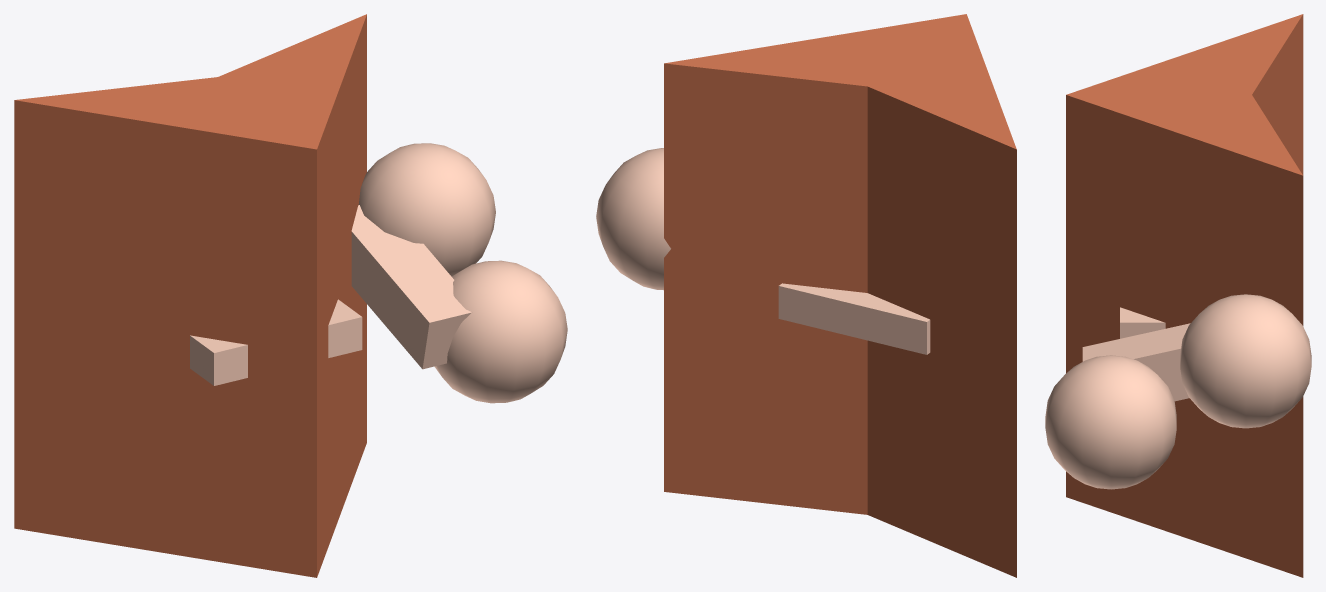
File: flyer-shape-split-pod-wedge-v1.glb
3 views of the same model, side by side, from view 1: azimuth 30°, elevation 25°; view 2: azimuth 150°, elevation 25°; view 3: azimuth 270°, elevation 25° (orthographic). The views are drawn at different scales.
Visible parts, largest first — view 1: Split-Pod Wedge; view 2: Split-Pod Wedge; view 3: Split-Pod Wedge.
Part boxes in pixels (<box>): Split-Pod Wedge: <box>14,14,567,577</box>; Split-Pod Wedge: <box>596,14,1016,577</box>; Split-Pod Wedge: <box>1045,14,1311,577</box>.
Size of the model in its own units: 1.56 by 1.45 by 0.869.
